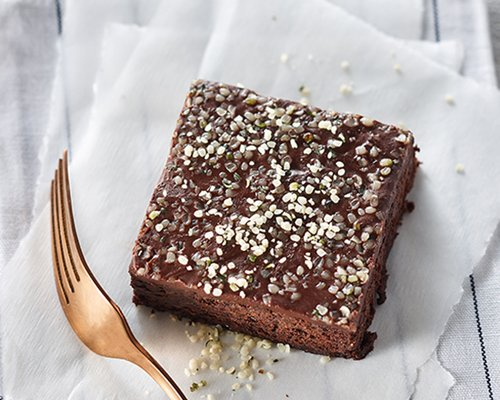burger: (49, 147, 188, 400)
